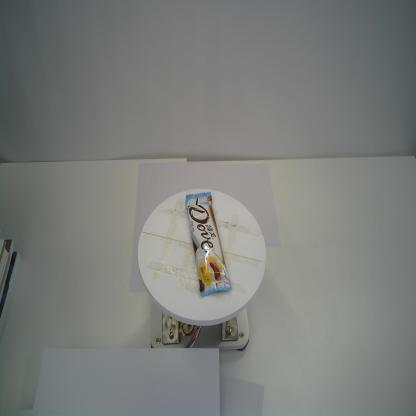Chocolate: (185, 191, 232, 297)
